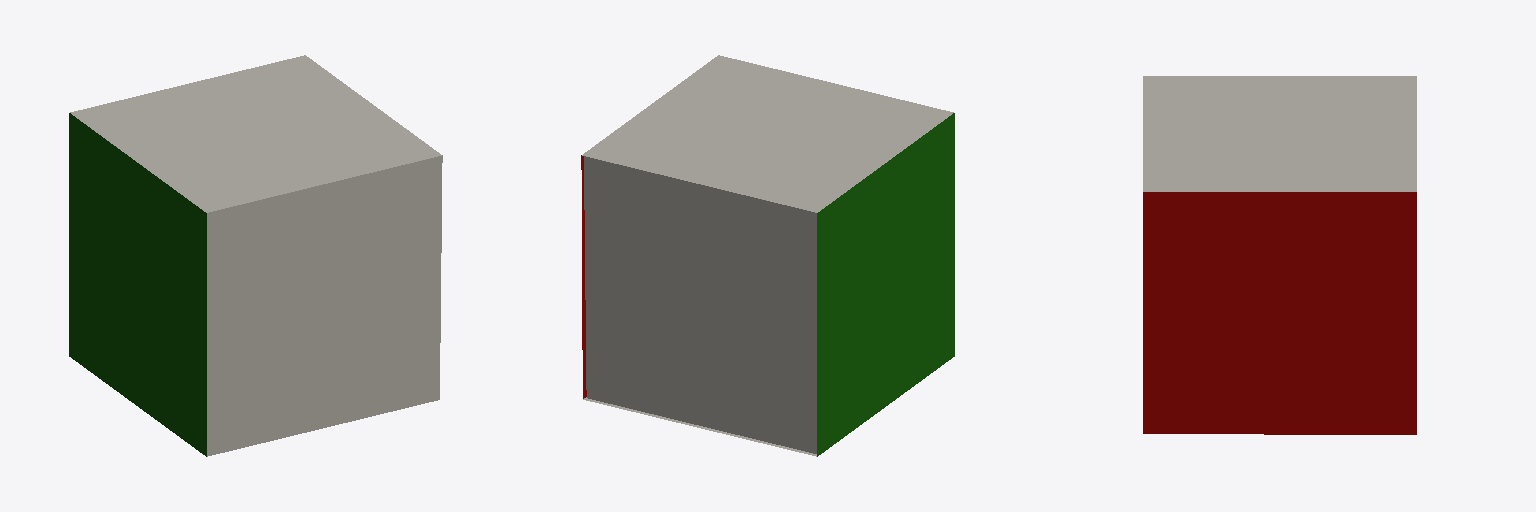
Rendered from CornellBox-Original-vertex_normals.obj.
The picture shows the model from 3 angles: view 1: azimuth 30°, elevation 25°; view 2: azimuth 150°, elevation 25°; view 3: azimuth 270°, elevation 25°; orthographic projection.
Parts seen in each view (by area): view 1: CornellBox-Original; view 2: CornellBox-Original; view 3: CornellBox-Original.
Boxes of the visible parts, <box> form: CornellBox-Original: <box>69,55,442,456</box>; CornellBox-Original: <box>581,55,954,456</box>; CornellBox-Original: <box>1143,76,1416,434</box>.
Bounding box in the file's own units: 556 × 549 × 559.